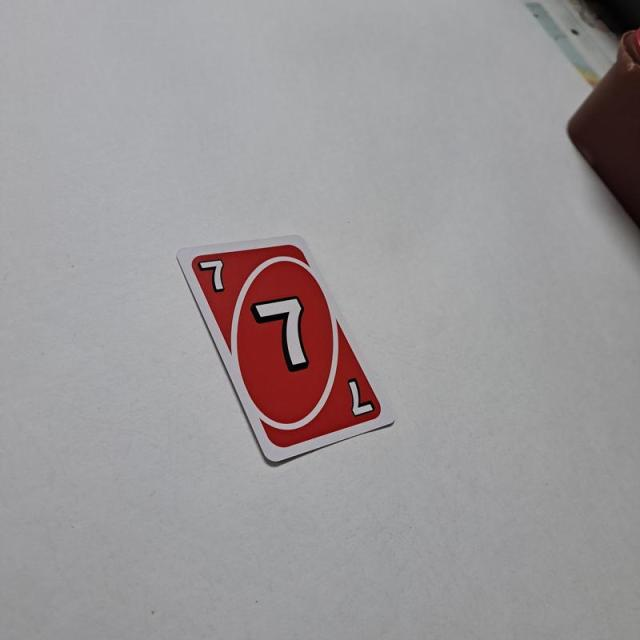Number_7: (195, 254, 232, 296)
Red_Card: (188, 239, 385, 451)
